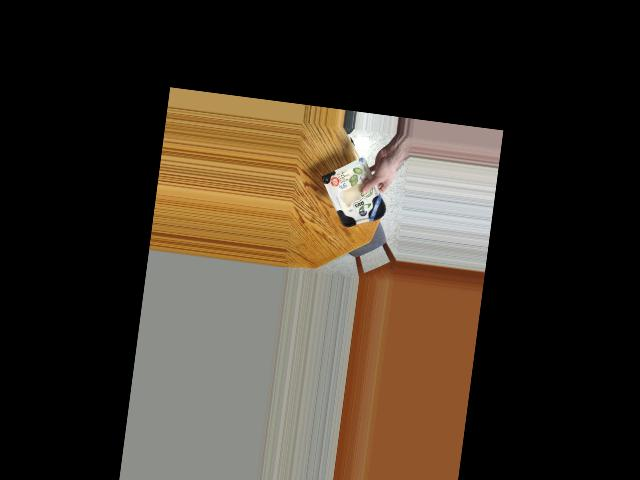cheese: (321, 162, 391, 236)
